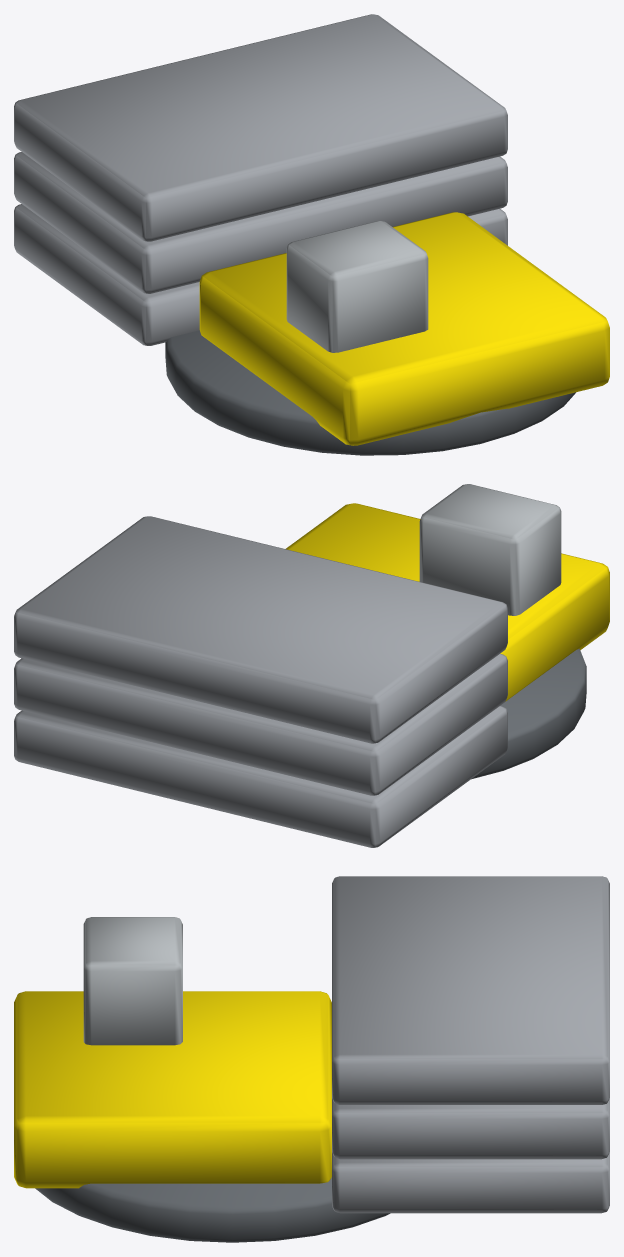
The model's file is crane_turret.glb.
3 renders of one model, top to bottom at view 1: azimuth 30°, elevation 25°; view 2: azimuth 150°, elevation 25°; view 3: azimuth 270°, elevation 25°, orthographic. The views are drawn at different scales.
Visible parts, largest first — view 1: Body; view 2: Body; view 3: Body.
Boxes of the visible parts, box(x1,y1,x2,y2) form: Body: box(14, 14, 609, 455); Body: box(14, 484, 609, 847); Body: box(14, 876, 609, 1242).
Size of the model in its own units: 2.2 by 1.04 by 3.
